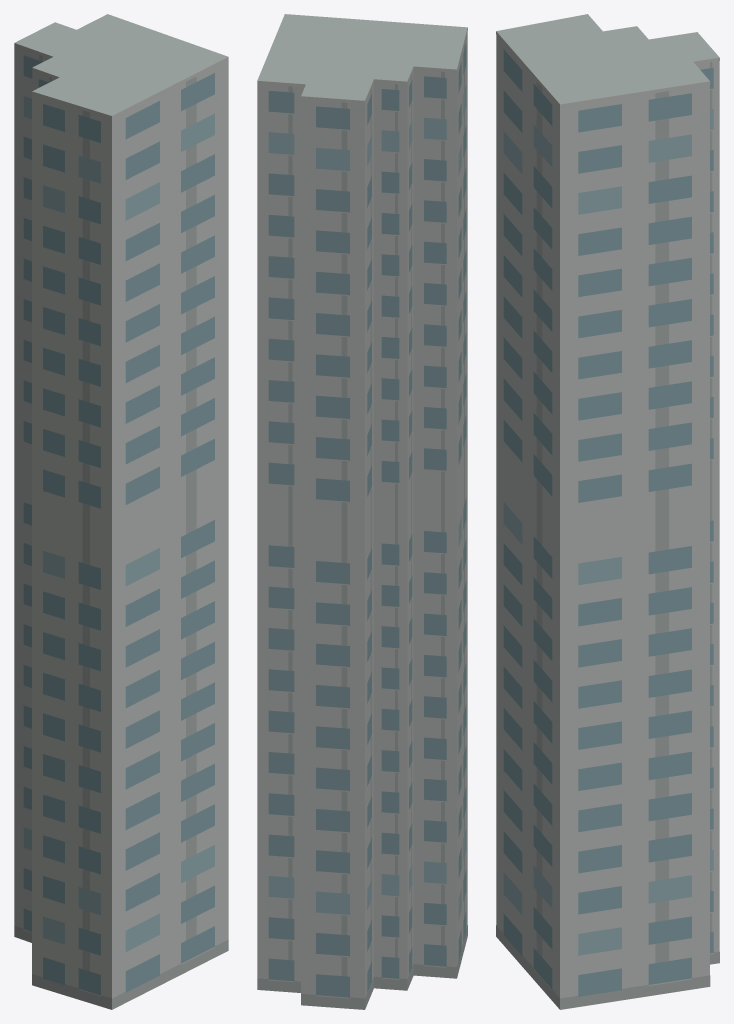
Rendered from survey-upis-32876326.glb.
The picture shows the model from 3 angles, left to right: view 1: azimuth 30°, elevation 25°; view 2: azimuth 150°, elevation 25°; view 3: azimuth 270°, elevation 25°; orthographic projection.
Parts seen in each view (by area): view 1: survey-upis-32876326.tmp; view 2: survey-upis-32876326.tmp; view 3: survey-upis-32876326.tmp.
Boxes of the visible parts, bbox=[...] form: survey-upis-32876326.tmp: bbox=[14, 14, 228, 1009]; survey-upis-32876326.tmp: bbox=[257, 14, 467, 1009]; survey-upis-32876326.tmp: bbox=[496, 14, 719, 1009].
Bounding box in the file's own units: 14.38 × 67.1 × 15.03.
